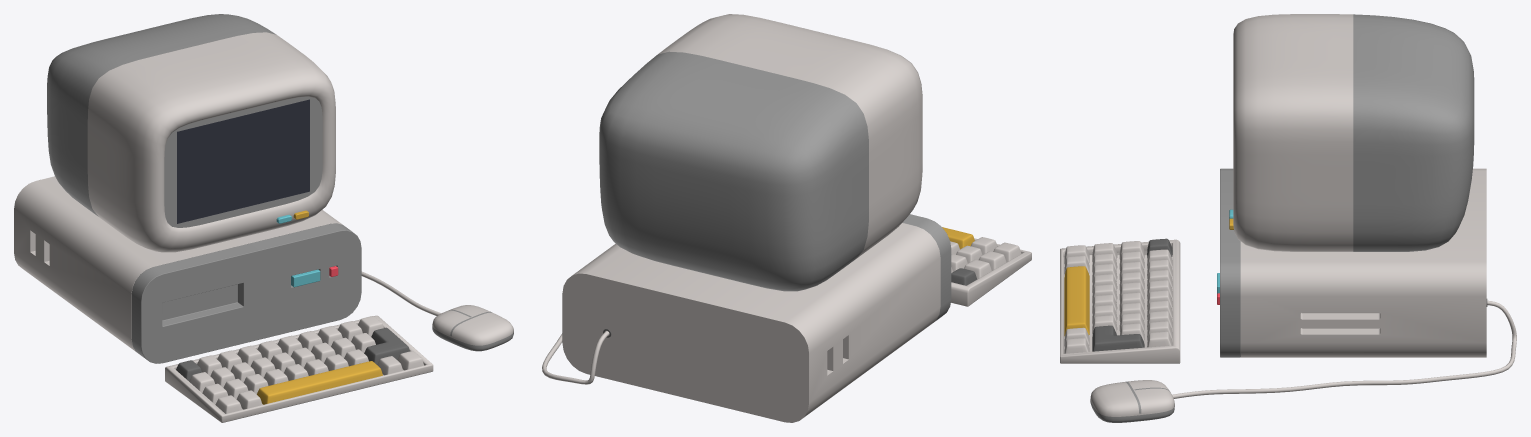
The model's file is old_computer.glb.
3 views of the same model, side by side, from view 1: azimuth 30°, elevation 25°; view 2: azimuth 150°, elevation 25°; view 3: azimuth 270°, elevation 25° (orthographic). The views are drawn at different scales.
Visible parts, largest first — view 1: MonitorFrontPart, PCFrontPart, PC, KeyboardKeys, ScreenInner, MonitorBackPart, OuterScreen, KeyboardBase, MouseTop, MouseBase; view 2: MonitorBackPart, PC, MonitorFrontPart, KeyboardKeys, KeyboardBase, PCFrontPart, MouseCable; view 3: PC, MonitorFrontPart, MonitorBackPart, KeyboardKeys, KeyboardBase, PCFrontPart, MouseTop, MouseCable, MouseBase.
Part boxes in pixels (box(x1,y1,x2,y2)): MonitorFrontPart: box(87, 32, 335, 252); PCFrontPart: box(131, 223, 361, 363); PC: box(14, 176, 342, 352); KeyboardKeys: box(176, 316, 423, 413); ScreenInner: box(177, 99, 309, 223); MonitorBackPart: box(47, 14, 276, 216); OuterScreen: box(164, 96, 322, 227); KeyboardBase: box(165, 315, 433, 422); MouseTop: box(432, 305, 513, 345); MouseBase: box(432, 326, 513, 351); MonitorBackPart: box(599, 51, 868, 291); PC: box(562, 223, 940, 422); MonitorFrontPart: box(658, 14, 922, 257); KeyboardKeys: box(942, 227, 1021, 285); KeyboardBase: box(951, 238, 1031, 306); PCFrontPart: box(902, 214, 951, 322); MouseCable: box(542, 331, 609, 384); PC: box(1240, 168, 1486, 357); MonitorFrontPart: box(1233, 14, 1353, 251); MonitorBackPart: box(1353, 14, 1474, 251); KeyboardKeys: box(1064, 238, 1172, 353); KeyboardBase: box(1060, 239, 1180, 363); PCFrontPart: box(1220, 168, 1240, 357); MouseTop: box(1090, 380, 1174, 416); MouseCable: box(1172, 300, 1516, 398); MouseBase: box(1090, 400, 1174, 422).
Bounding box in the file's own units: 5.81 × 4.46 × 6.86.
